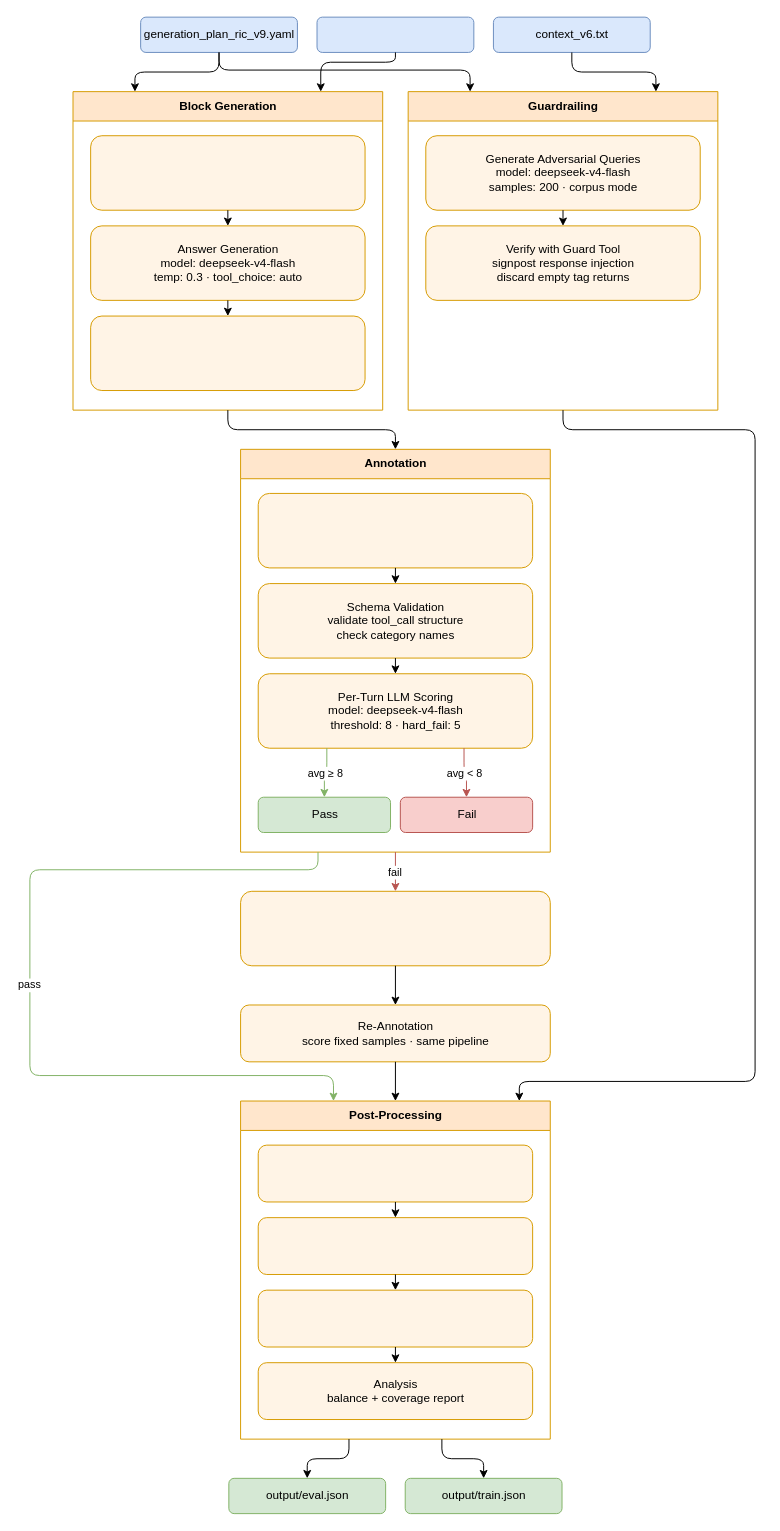
Some shapes in this 780 by 1531 pixel diagram are drawn without their labels. Each missing label, with the centre of its shape:
Assemble Blocks 2-3 blocks per conversation: point (395, 1173)
Dedup + Truncation Filter normalise speakable text remove duplicates: point (395, 530)
Fix Failed Samples model: deepseek-v4-flash re-generate failed turns: point (395, 928)
persona_banking.jsonl: point (395, 34)
Query Generation model: deepseek-v4-flash temp: 0.7 · max_tokens: 8192: point (227, 172)
Rebalance tool:text ratio · contamination: point (395, 1318)
Split 100% eval (ric_v9 config): point (395, 1245)
Tool Result + Response model: deepseek-v4-flash followups: 2-3 per block: point (227, 353)
